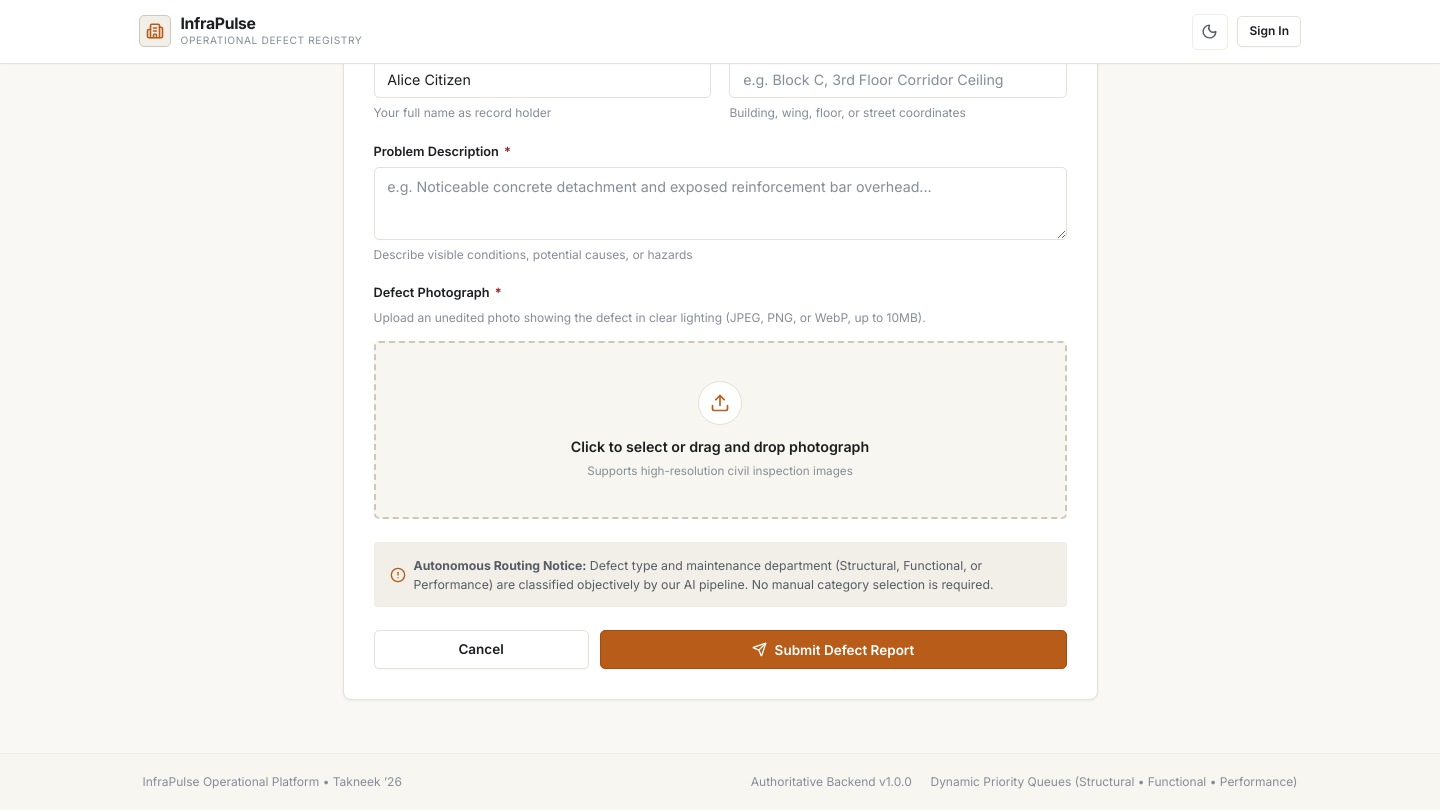
NewComplaintPage Validation › renders required form fields and validates photo upload before submit
This screenshot has width=1440, height=810.
(page scrolled)
Check: the field with placeholder "e.g. Block C, 3rd Floor Corridor Ceiling" is shown, box [729, 60, 1066, 98]
Note: Click submit without photo or address
Step 1. Click the button "Submit Defect Report" → [833, 650], box [600, 630, 1066, 669]
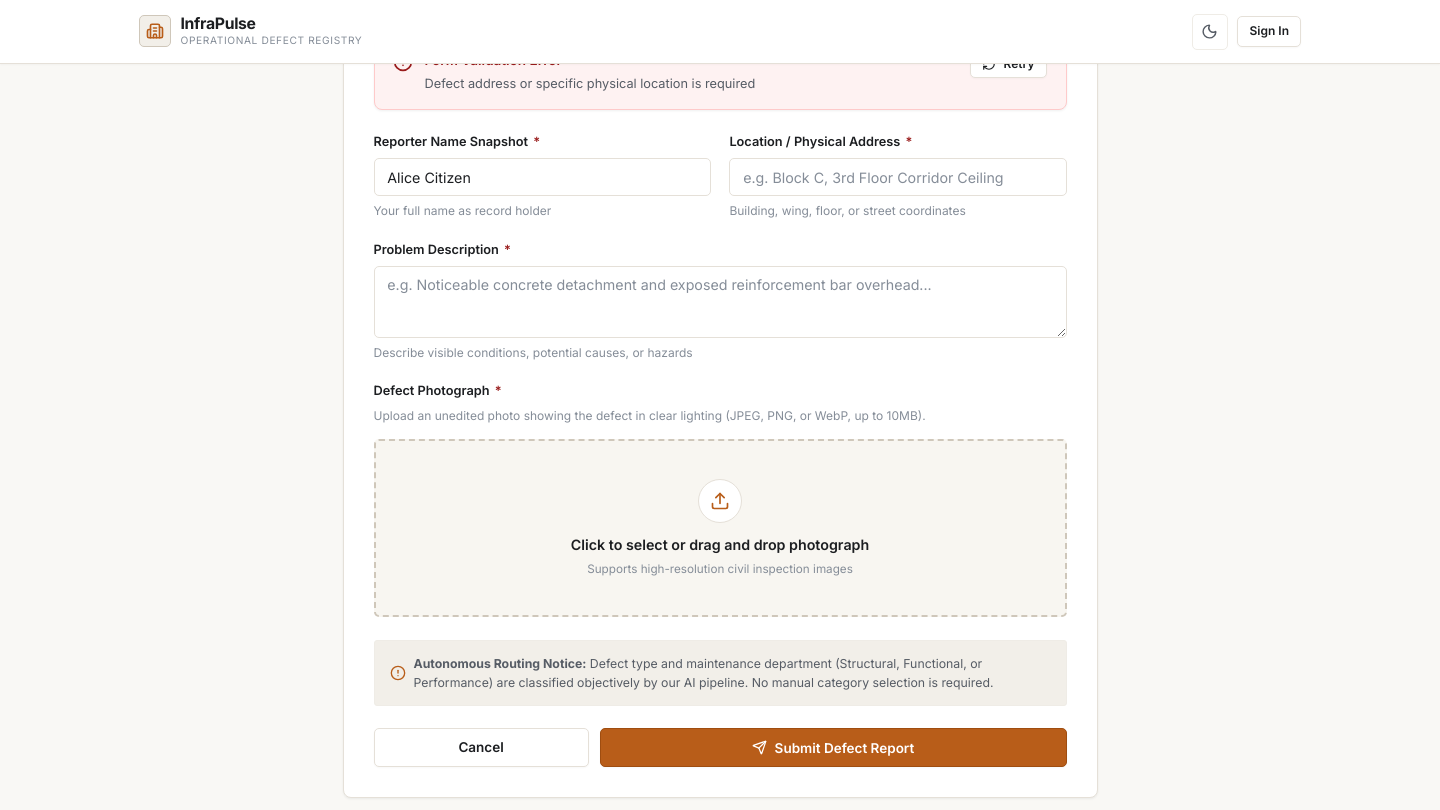
Check: the text "Defect address or specific physical location is required" is shown, box [424, 74, 755, 94]
